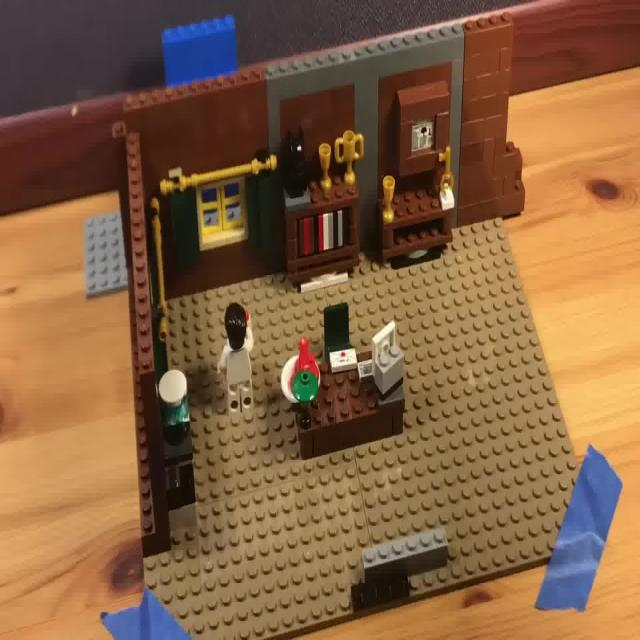brick: (276, 119, 313, 197)
figure: (155, 228, 596, 636), (127, 13, 510, 303), (124, 139, 179, 566), (285, 338, 413, 476), (154, 7, 243, 88), (360, 523, 447, 568), (87, 203, 128, 288)
hand: (212, 299, 265, 416)
